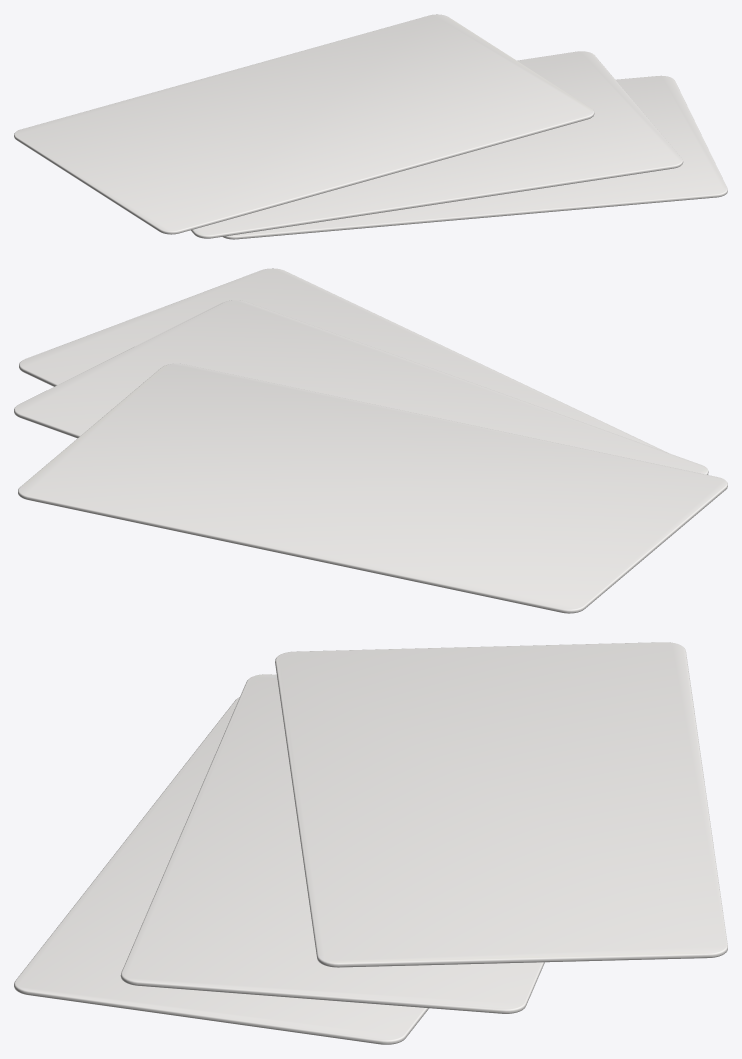
The model's file is cards.glb.
The picture shows the model from 3 angles, top to bottom: view 1: azimuth 30°, elevation 25°; view 2: azimuth 150°, elevation 25°; view 3: azimuth 270°, elevation 25°; orthographic projection. The views are drawn at different scales.
Parts seen in each view (by area): view 1: card2, card1, card0; view 2: card2, card1, card0; view 3: card2, card1, card0.
Part boxes in pixels (bbox=[...]): card2: bbox=[14, 14, 594, 234]; card1: bbox=[191, 51, 683, 238]; card0: bbox=[222, 75, 727, 239]; card2: bbox=[18, 363, 727, 613]; card1: bbox=[14, 300, 708, 474]; card0: bbox=[19, 268, 667, 452]; card2: bbox=[275, 642, 727, 967]; card1: bbox=[120, 674, 544, 1013]; card0: bbox=[14, 697, 428, 1044].
Bounding box in the file's own units: 0.1122 × 0.0018 × 0.0867.
Materials: 4 (4 with a texture image).
